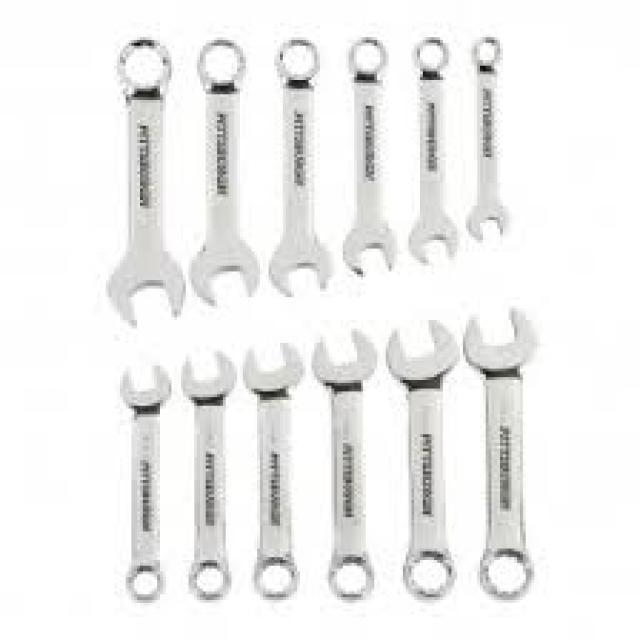wrench: (460, 298, 542, 608), (100, 35, 186, 329), (383, 314, 461, 608), (182, 36, 262, 310), (262, 33, 340, 304), (310, 321, 380, 604), (238, 336, 308, 604), (176, 344, 241, 604), (336, 33, 402, 279), (112, 358, 174, 604), (404, 37, 462, 270), (462, 32, 515, 244)
